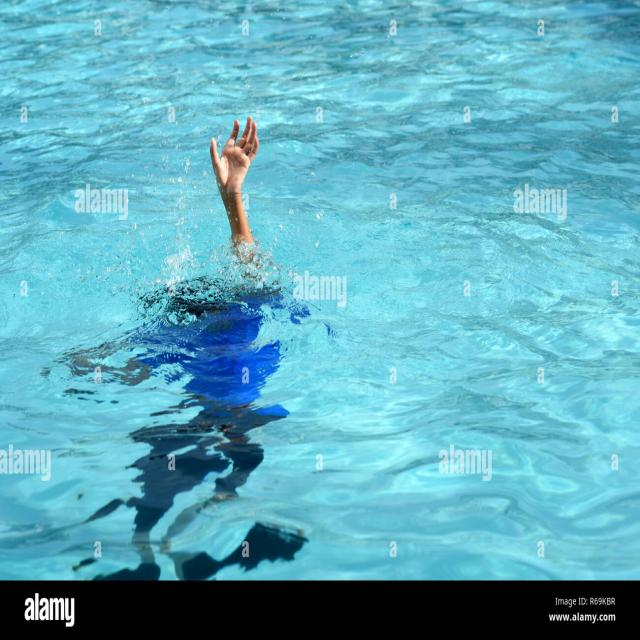Drowning: (183, 102, 280, 286)
